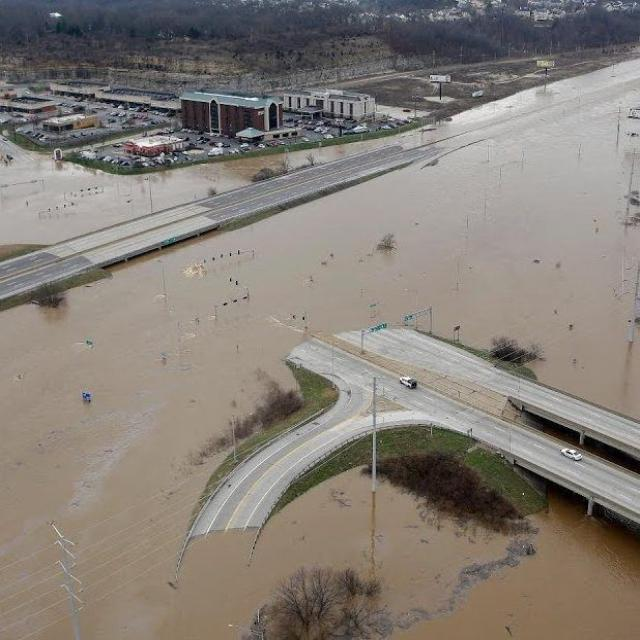flooded_areas: (0, 84, 626, 616)
